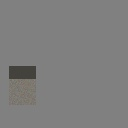supply_truck: (9, 66, 36, 105)
